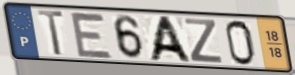0: (224, 19, 258, 67)
6: (112, 14, 145, 61)
A: (146, 15, 195, 65)
E: (67, 9, 115, 60)
T: (36, 8, 66, 57)
Z: (183, 17, 224, 65)
